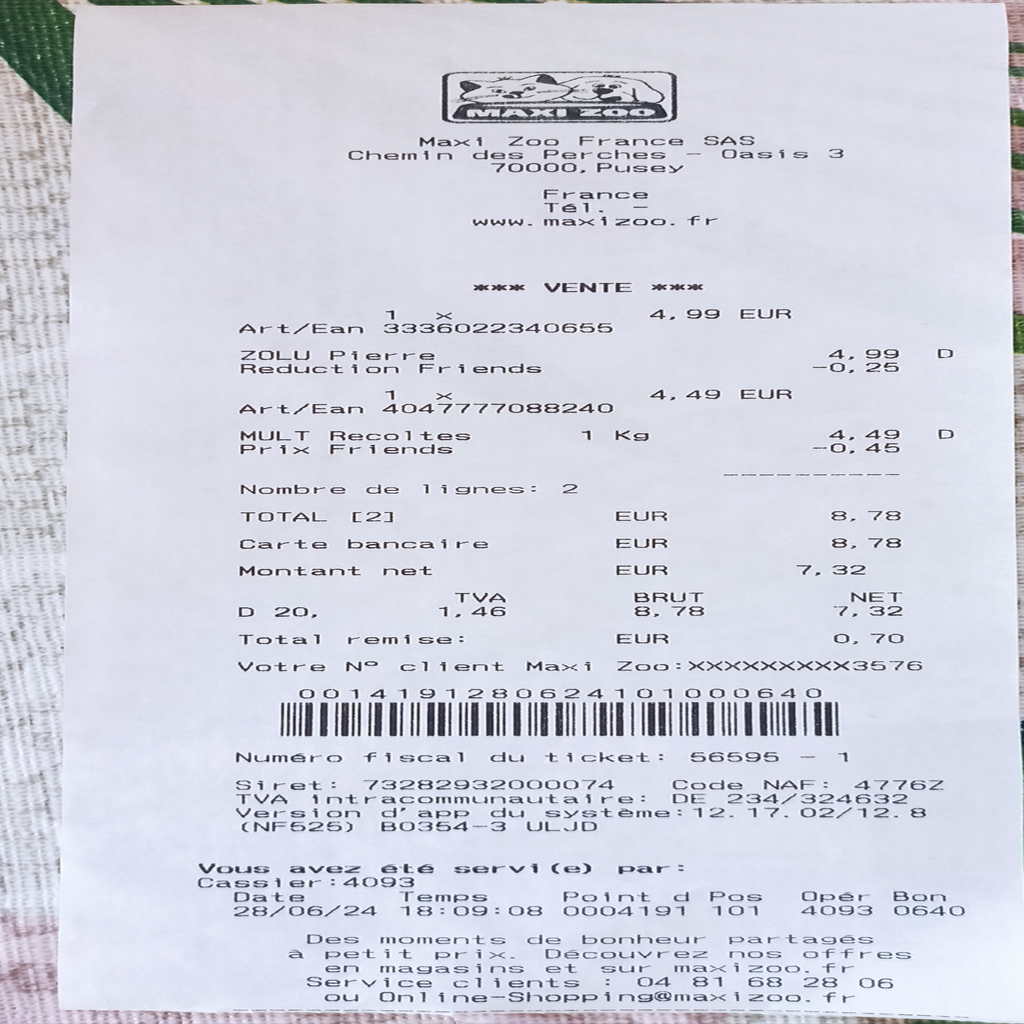recipt: (59, 6, 1001, 1018)
